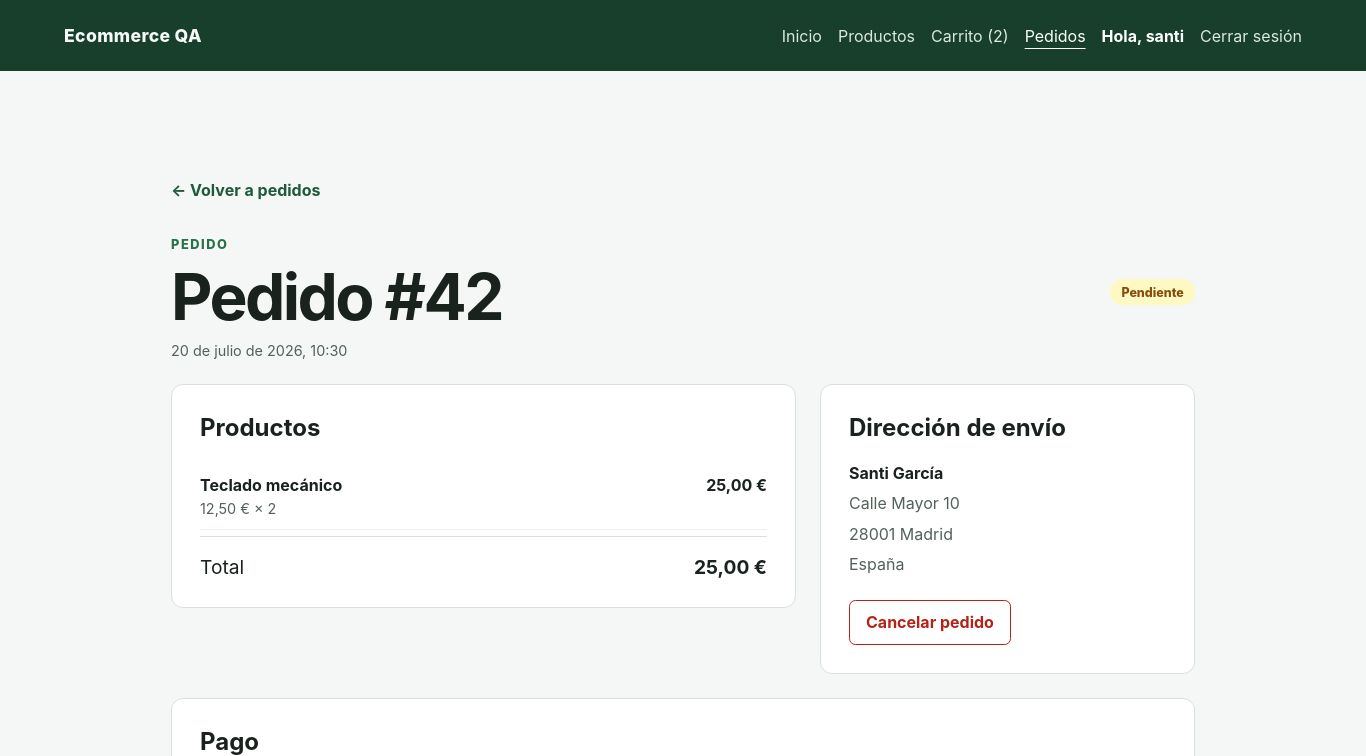
Test: checkout y pedidos › cancela un pedido después de pedir confirmación
Click the button "Cancelar pedido": (930, 622) left=849, top=600, right=1011, bottom=645
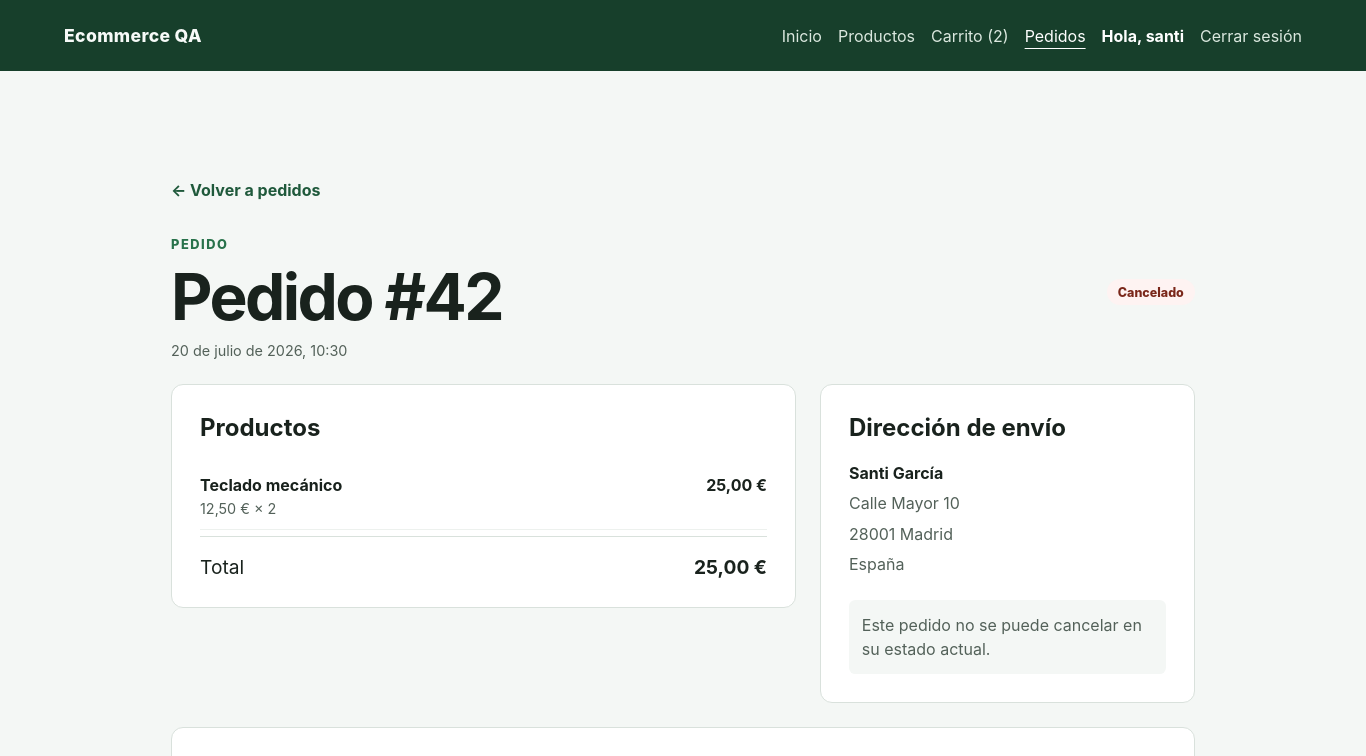
Now the text "Cancelado" is shown, box left=1107, top=279, right=1195, bottom=305
Now the button "Cancelar pedido" is gone
